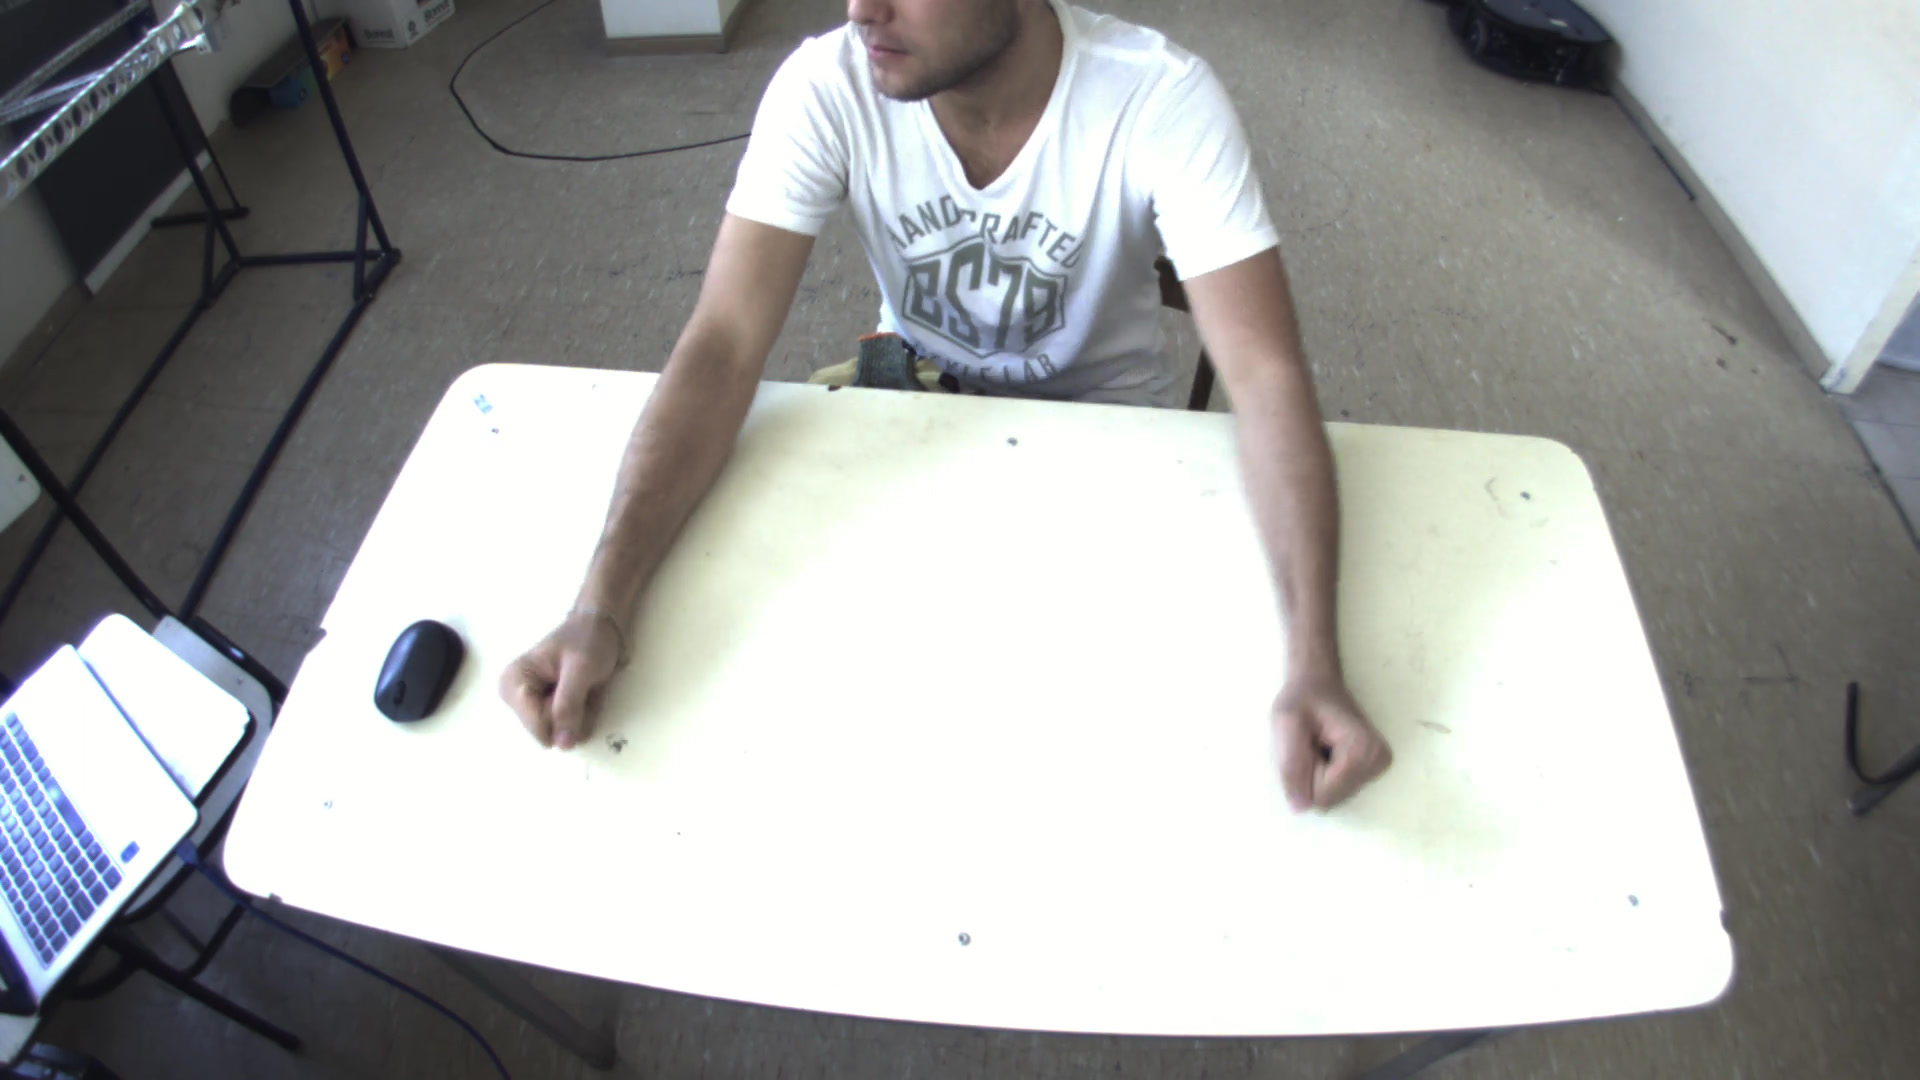hand: (491, 608, 636, 758), (1269, 653, 1403, 811)
